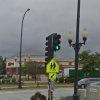Traffic light: (34, 27, 63, 60)
